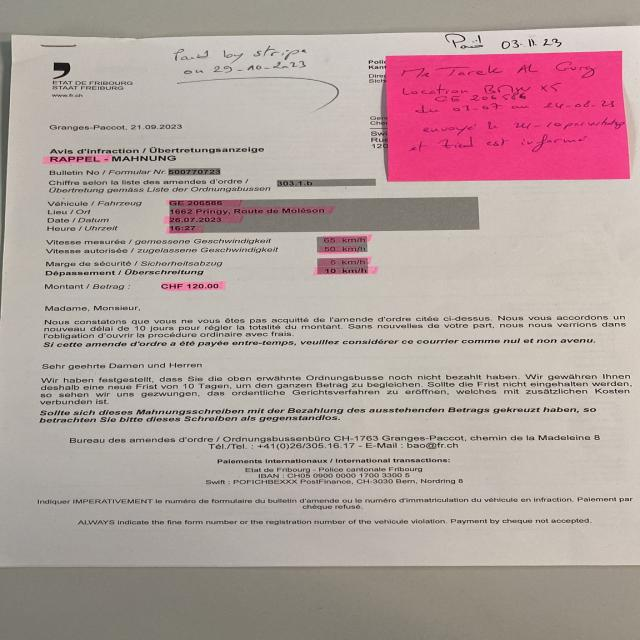paper-document-: (2, 28, 640, 567)
